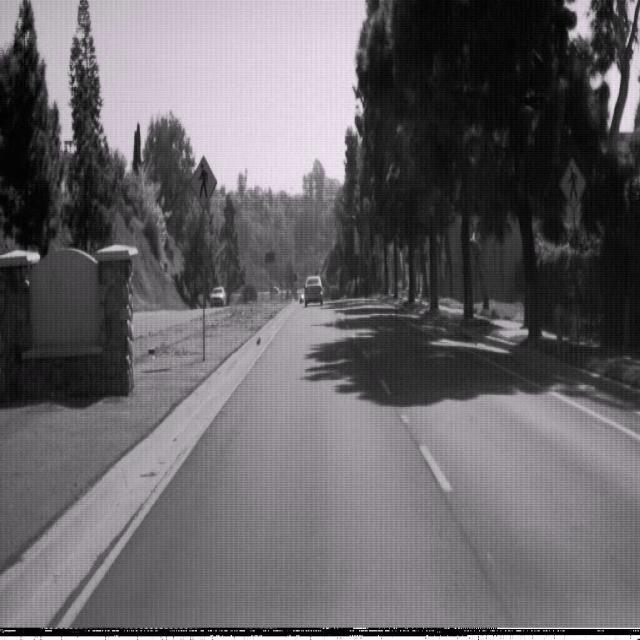pedestrianCrossing: (188, 153, 218, 212), (558, 156, 587, 213)
